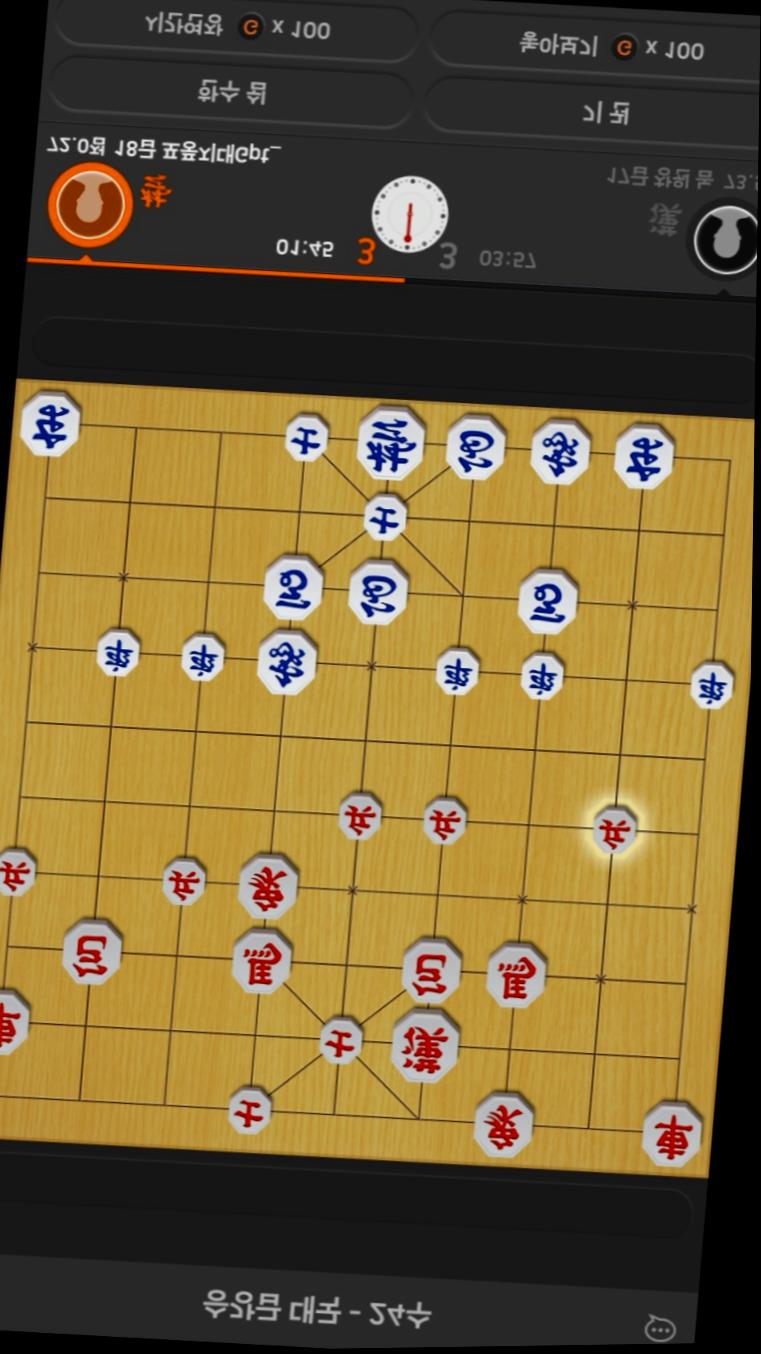cha_green: (611, 422, 678, 491), (18, 389, 81, 458)
cha_red: (640, 1097, 704, 1167), (0, 986, 30, 1055)
jol_green: (514, 645, 567, 703), (433, 640, 482, 697), (686, 659, 736, 711), (91, 626, 141, 675), (181, 628, 225, 682)
jol_red: (334, 788, 383, 841), (591, 803, 636, 857), (162, 852, 206, 905), (422, 793, 466, 845), (0, 843, 36, 896)
ma_green: (260, 551, 325, 621), (516, 565, 575, 634)
ma_red: (484, 940, 547, 1009), (231, 921, 292, 991)
po_green: (442, 411, 509, 481), (345, 554, 406, 624)
po_red: (59, 917, 124, 987), (398, 931, 462, 1000)
sa_green: (282, 410, 329, 461), (359, 495, 409, 539)
sa_red: (319, 1012, 363, 1064), (227, 1084, 271, 1135)
sang_green: (529, 416, 591, 487), (254, 627, 318, 695)
sang_red: (235, 849, 302, 920), (470, 1093, 537, 1158)
wang_green: (355, 405, 427, 482)
wang_red: (387, 1007, 460, 1085)
